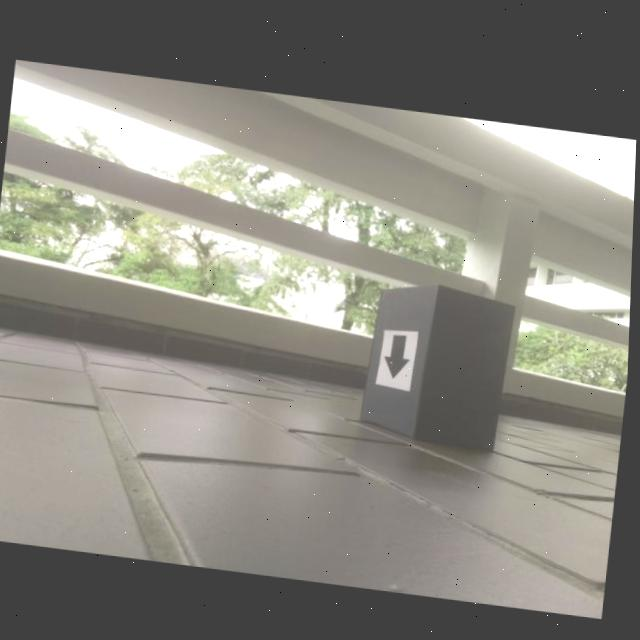DOWN: (385, 329, 413, 375)
